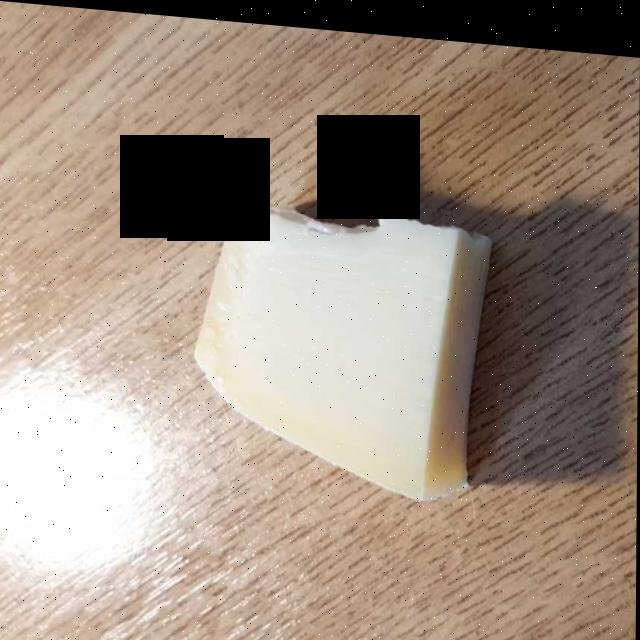gruyere: (198, 182, 485, 489)
